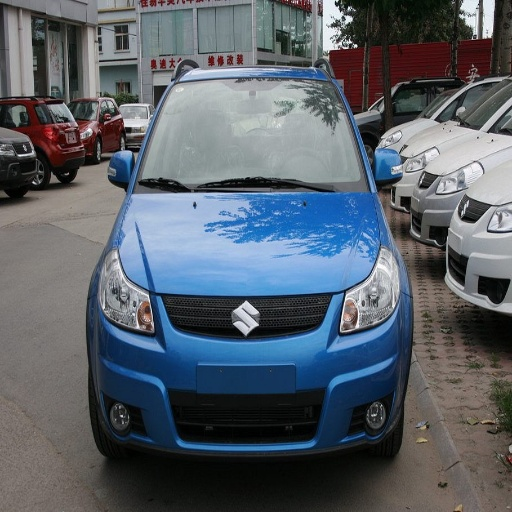front_bumper: (94, 291, 406, 453)
front_right_light: (97, 253, 157, 335)
hood: (120, 190, 382, 295)
left_mirror: (375, 143, 405, 189)
